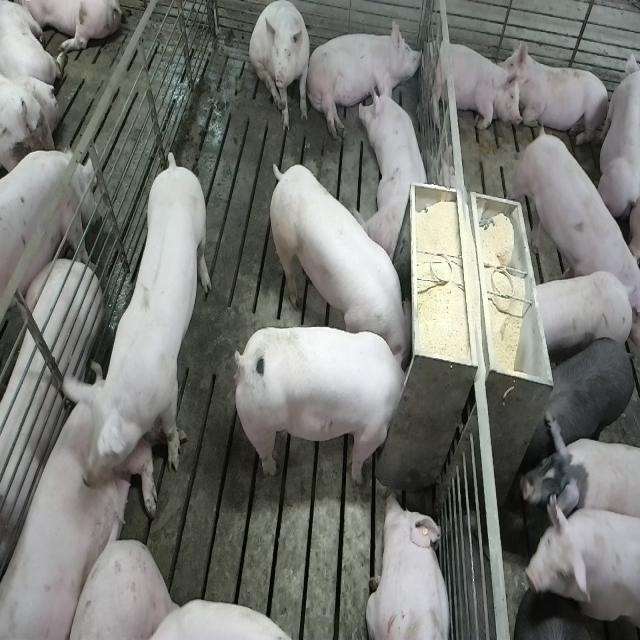Feeding: (264, 160, 412, 364), (228, 324, 409, 486)
Lateral_lying: (306, 16, 424, 142)
Sitting: (250, 1, 312, 134)
Standing: (60, 158, 210, 493), (510, 124, 640, 298), (0, 152, 95, 349), (522, 480, 638, 639), (518, 415, 637, 536), (537, 334, 636, 446), (531, 269, 636, 352)
Sternal_lying: (0, 372, 149, 635), (361, 70, 433, 259), (365, 489, 452, 640), (508, 40, 612, 150), (424, 35, 520, 136)
